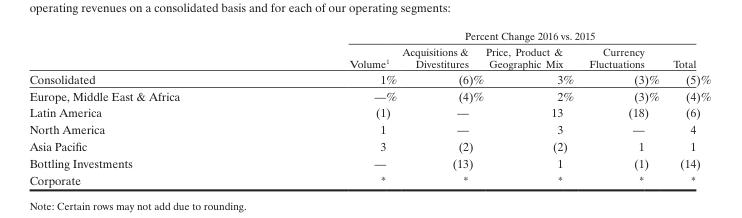table: (28, 29, 710, 187)
table column: (28, 29, 263, 187), (263, 29, 398, 187), (484, 29, 580, 187), (398, 29, 484, 187), (580, 29, 665, 187), (665, 29, 710, 187)
table column header: (28, 29, 710, 70)
table row: (28, 43, 710, 70), (28, 86, 710, 103), (28, 103, 710, 120), (28, 120, 710, 137), (28, 137, 710, 154), (28, 154, 710, 171), (28, 70, 710, 86), (28, 171, 710, 187), (28, 29, 710, 43)
table spanning cell: (263, 29, 710, 43)
